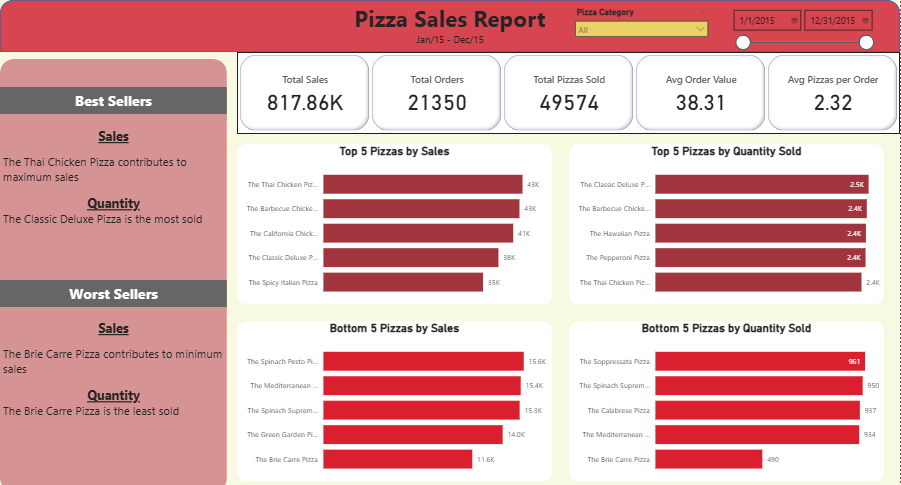

What the dashboard file says about the page in this screenshot:
{"tool":"powerbi","page":{"name":"Best/Worst Sellers","canvas":[1500,820],"ordinal":1},"visuals":[{"type":"cardVisual","fields":{"Data":["pizza_sales.Total Sales","pizza_sales.Total Orders","pizza_sales.Total Pizzas Sold","pizza_sales.Avg Order Value","pizza_sales.Avg Pizzas per Order"]},"box":[395,86.7,1105,136.7],"z":0},{"type":"shape","box":[0,0,1500,86.7],"z":1},{"type":"textbox","box":[0,0,1500,86.7],"z":2},{"type":"shape","box":[0,98.3,378.3,721.7],"z":3},{"type":"slicer","fields":{"Values":["pizza_sales.pizza_category"]},"box":[948.3,6.7,241.7,73.3],"z":4},{"type":"slicer","fields":{"Values":["pizza_sales.order_date"]},"box":[1210,6.7,255,106.7],"z":5},{"type":"shape","box":[395,240,525,267.5],"z":6},{"type":"clusteredBarChart","title":"Top 5 Pizzas by Sales","fields":{"Category":["pizza_sales.pizza_name"],"Y":["Sum(pizza_sales.total_price)"]},"box":[395,240,525,268.3],"z":12},{"type":"shape","box":[947.5,240,525,267.5],"z":13},{"type":"shape","box":[395,535,525,267.5],"z":14},{"type":"shape","box":[947.5,535,525,267.5],"z":15},{"type":"clusteredBarChart","title":"Top 5 Pizzas by Quantity Sold","fields":{"Category":["pizza_sales.pizza_name"],"Y":["Sum(pizza_sales.quantity)"]},"box":[948.3,240,525,268.3],"z":16},{"type":"clusteredBarChart","title":"Bottom 5 Pizzas by Sales","fields":{"Category":["pizza_sales.pizza_name"],"Y":["Sum(pizza_sales.total_price)"]},"box":[395,535,525,268.3],"z":17},{"type":"clusteredBarChart","title":"Bottom 5 Pizzas by Quantity Sold","fields":{"Category":["pizza_sales.pizza_name"],"Y":["Sum(pizza_sales.quantity)"]},"box":[948.3,535,525,268.3],"z":18},{"type":"textbox","box":[0,145,378.3,45],"z":19},{"type":"textbox","box":[0,206.7,378.3,190],"z":20},{"type":"textbox","box":[0,466.7,378.3,45],"z":21},{"type":"textbox","box":[0,526.3,378.3,203.3],"z":22}]}

Visuals, with their boxes in screenshot pixels (x1, y1, x2, y2), scaled from the page's 1500x820 canvas onto the 901x485 screenshot:
cardVisual - pizza_sales.Total Sales x pizza_sales.Total Orders: Rect(237, 51, 900, 132)
shape: Rect(0, 0, 900, 51)
textbox: Rect(0, 0, 900, 51)
shape: Rect(0, 58, 227, 484)
slicer - pizza_sales.pizza_category: Rect(570, 4, 715, 47)
slicer - pizza_sales.order_date: Rect(727, 4, 880, 67)
shape: Rect(237, 142, 553, 300)
"Top 5 Pizzas by Sales" clusteredBarChart: Rect(237, 142, 553, 301)
shape: Rect(569, 142, 884, 300)
shape: Rect(237, 316, 553, 475)
shape: Rect(569, 316, 884, 475)
"Top 5 Pizzas by Quantity Sold" clusteredBarChart: Rect(570, 142, 885, 301)
"Bottom 5 Pizzas by Sales" clusteredBarChart: Rect(237, 316, 553, 475)
"Bottom 5 Pizzas by Quantity Sold" clusteredBarChart: Rect(570, 316, 885, 475)
textbox: Rect(0, 86, 227, 112)
textbox: Rect(0, 122, 227, 235)
textbox: Rect(0, 276, 227, 303)
textbox: Rect(0, 311, 227, 432)
